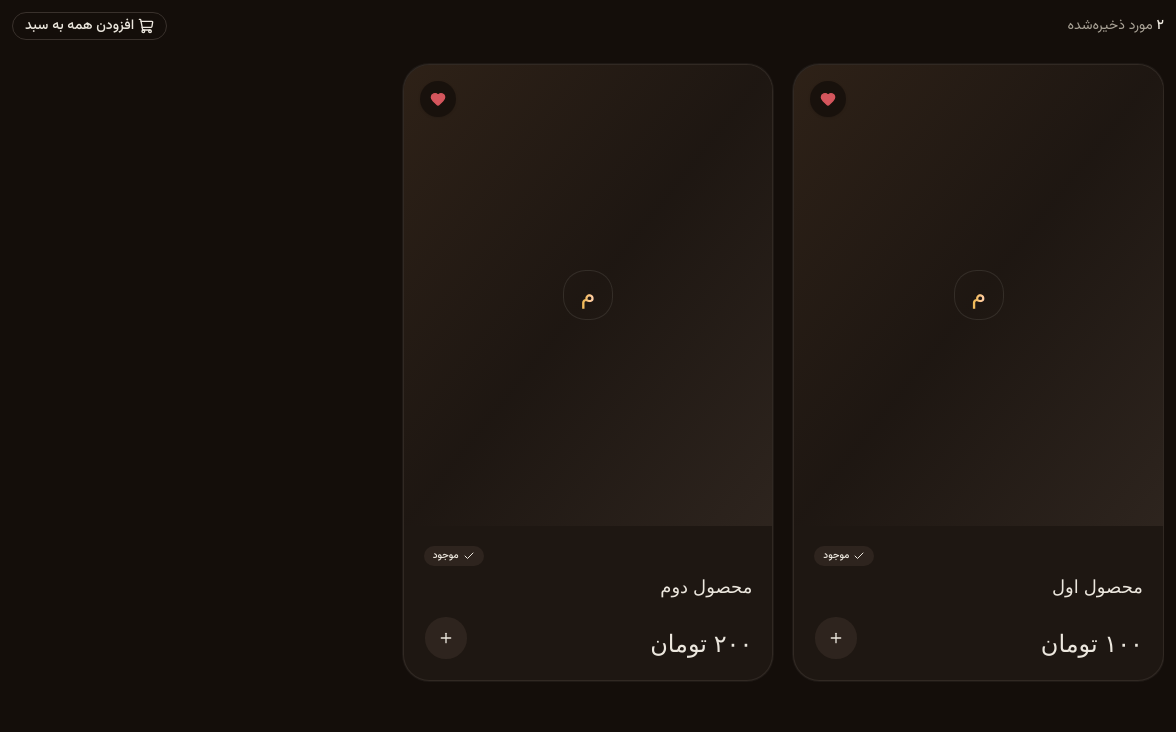
Test: WishlistView bulk actions › reports an all-skipped response as an error
Click the button "افزودن همه به سبد" at point(90, 26), box [12,12,167,40]
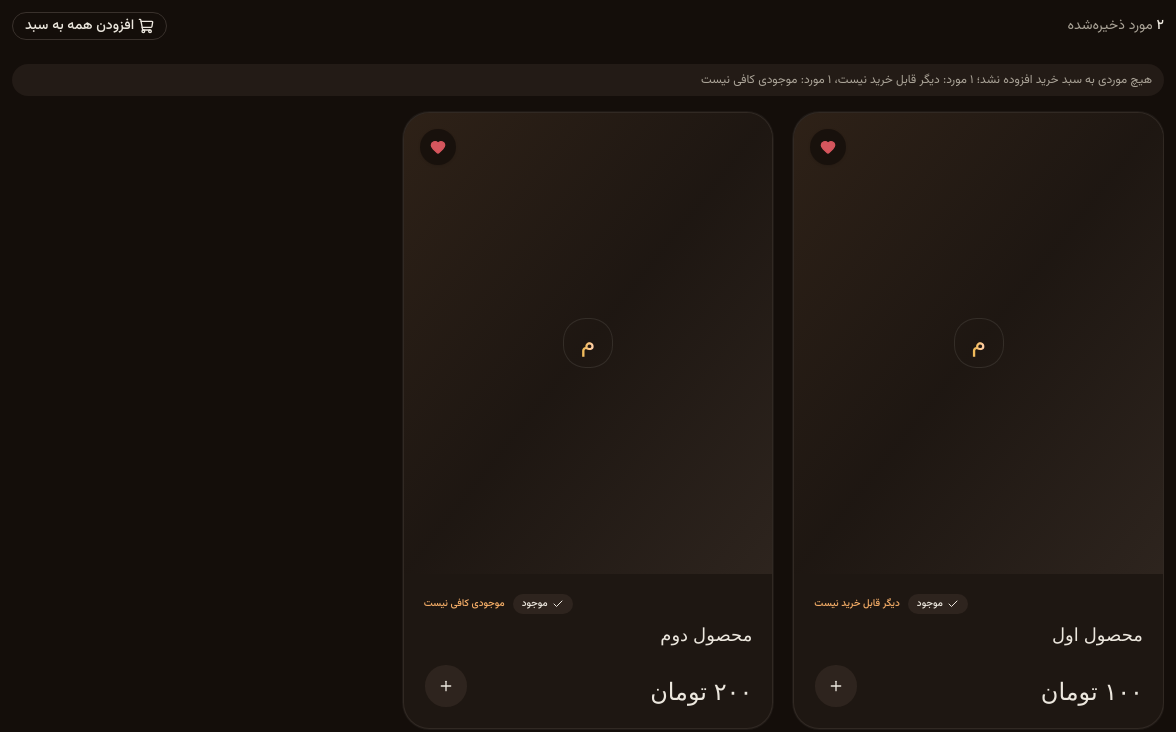
Expected: the message shows "هیچ موردی به سبد خرید افزوده نشد", [701,71,1152,89]
